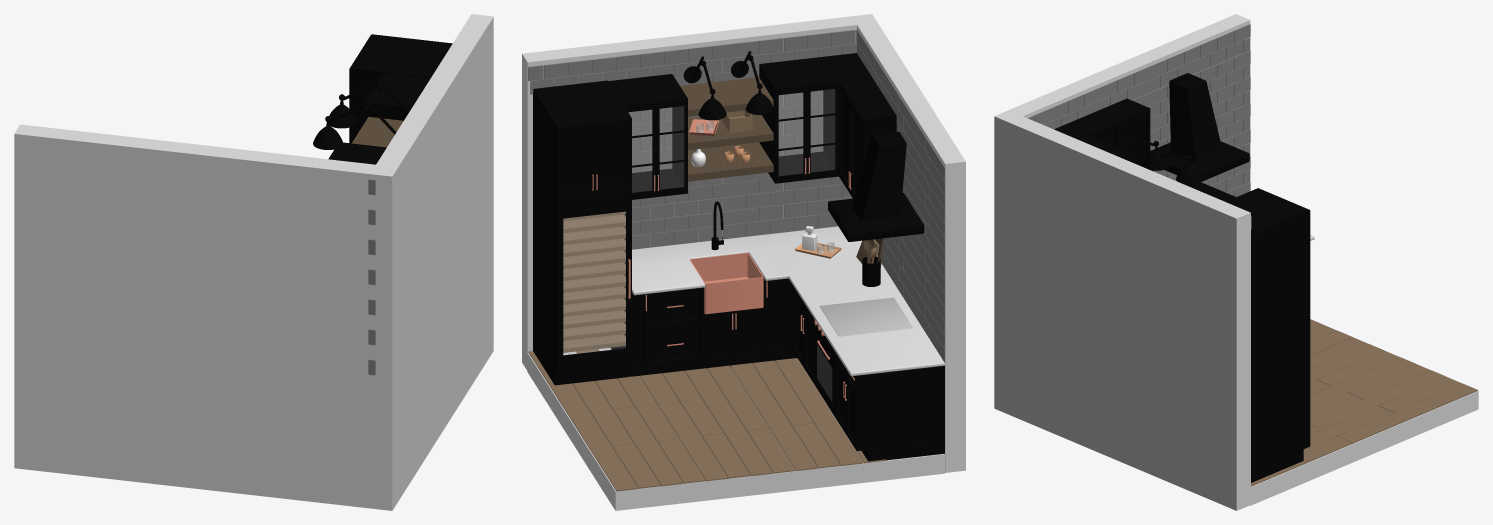
The model's file is black kitchen.glb.
3 views of the same model, side by side, from view 1: azimuth 30°, elevation 25°; view 2: azimuth 150°, elevation 25°; view 3: azimuth 270°, elevation 25° (orthographic). The views are drawn at different scales.
Parts seen in each view (by area): view 1: wall 1, wall 2, Cube.009, Cube.032, Cube.040, Cube.042, tiles; view 2: tiles, Cube.009, floor, Cube.029, Cube.008, wall 1, wall 3, Cube.042, fridge shelves, wall 2, Cube.032, Cube.035 (+13 smaller); view 3: wall 2, Cube.009, floor, tiles, Cube.035, wall 3, wall 1, Cube.034.
Boxes of the visible parts, x1,y1,x2,y2 form: wall 1: [14, 124, 375, 508]; wall 2: [370, 14, 493, 510]; Cube.009: [349, 34, 452, 143]; Cube.032: [364, 73, 430, 122]; Cube.040: [352, 117, 403, 147]; Cube.042: [328, 142, 386, 164]; tiles: [368, 179, 375, 375]; tiles: [528, 29, 945, 362]; Cube.009: [533, 80, 631, 385]; floor: [528, 349, 885, 491]; Cube.029: [632, 226, 944, 376]; Cube.008: [793, 285, 944, 450]; wall 1: [857, 22, 965, 472]; wall 3: [527, 347, 944, 510]; Cube.042: [759, 57, 838, 183]; fridge shelves: [563, 211, 625, 352]; wall 2: [522, 14, 877, 370]; Cube.032: [608, 74, 687, 199]; Cube.035: [828, 132, 924, 241]; wall 2: [994, 110, 1250, 510]; Cube.009: [1226, 188, 1310, 482]; floor: [1251, 319, 1477, 486]; tiles: [1028, 24, 1251, 229]; Cube.035: [1150, 73, 1249, 181]; wall 3: [1250, 391, 1478, 505]; wall 1: [1008, 14, 1250, 192]; Cube.034: [1054, 98, 1150, 167].
Size of the model in its own units: 11.51 by 7.77 by 11.52.
